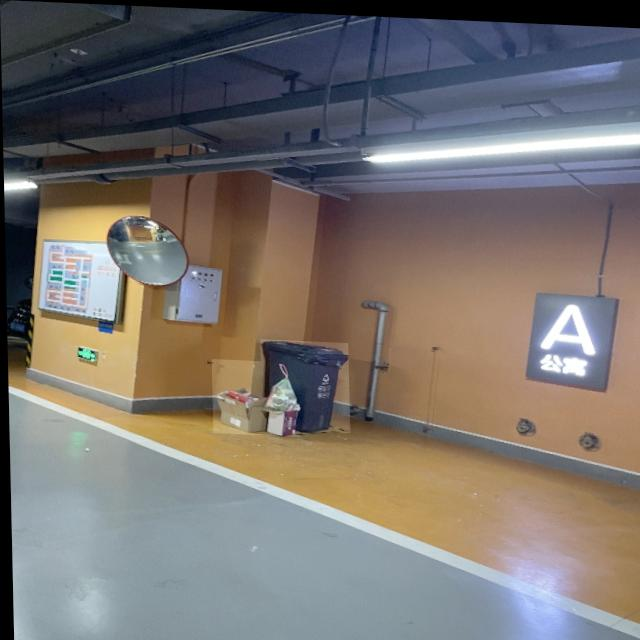garbage: (210, 357, 298, 434)
garbage_bin: (259, 337, 348, 430)
